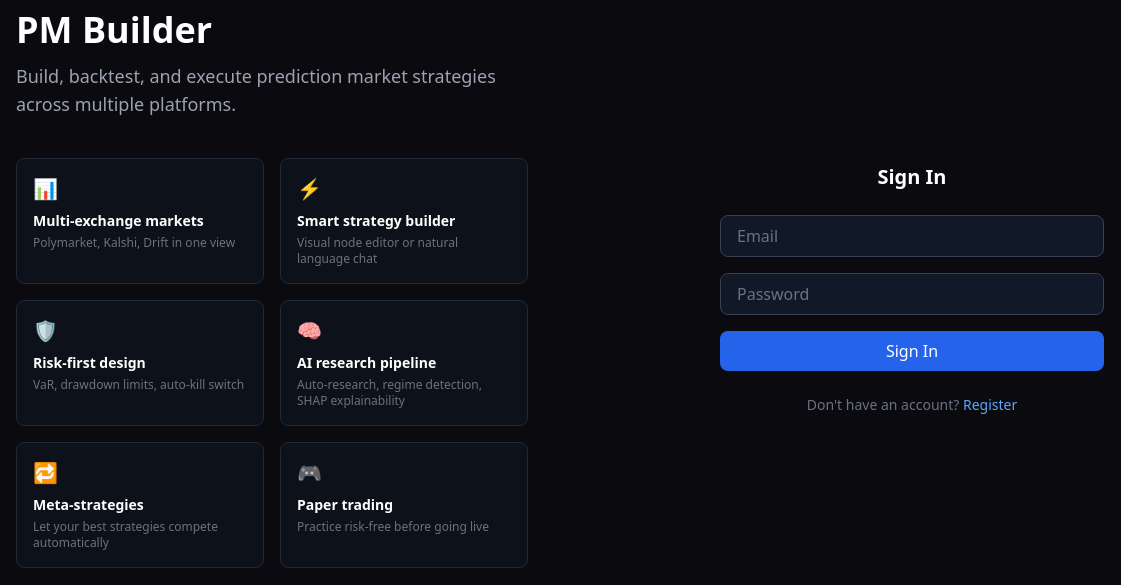
Test: LoginPage › toggles back to sign in
The image size is (1121, 585).
Click the button "Register": [990, 405] box [963,395,1017,415]
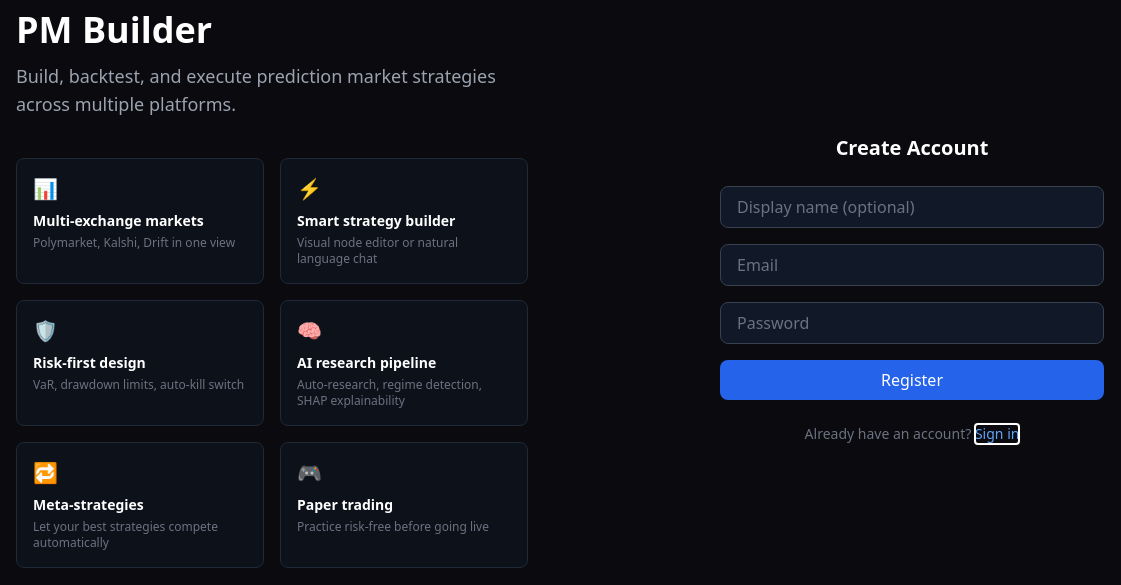
Click the button "Sign in": [997, 434] box [975,424,1019,444]
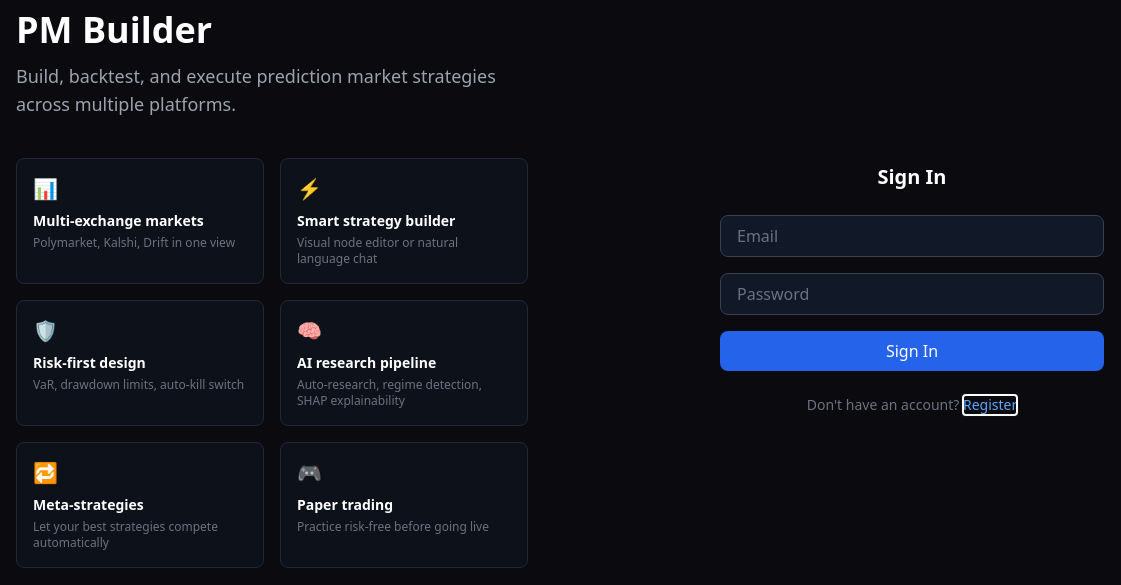
Check: the field with placeholder "Display name (optional)" is not shown
Check: the heading "Sign In" is shown, box [878,163,946,190]
